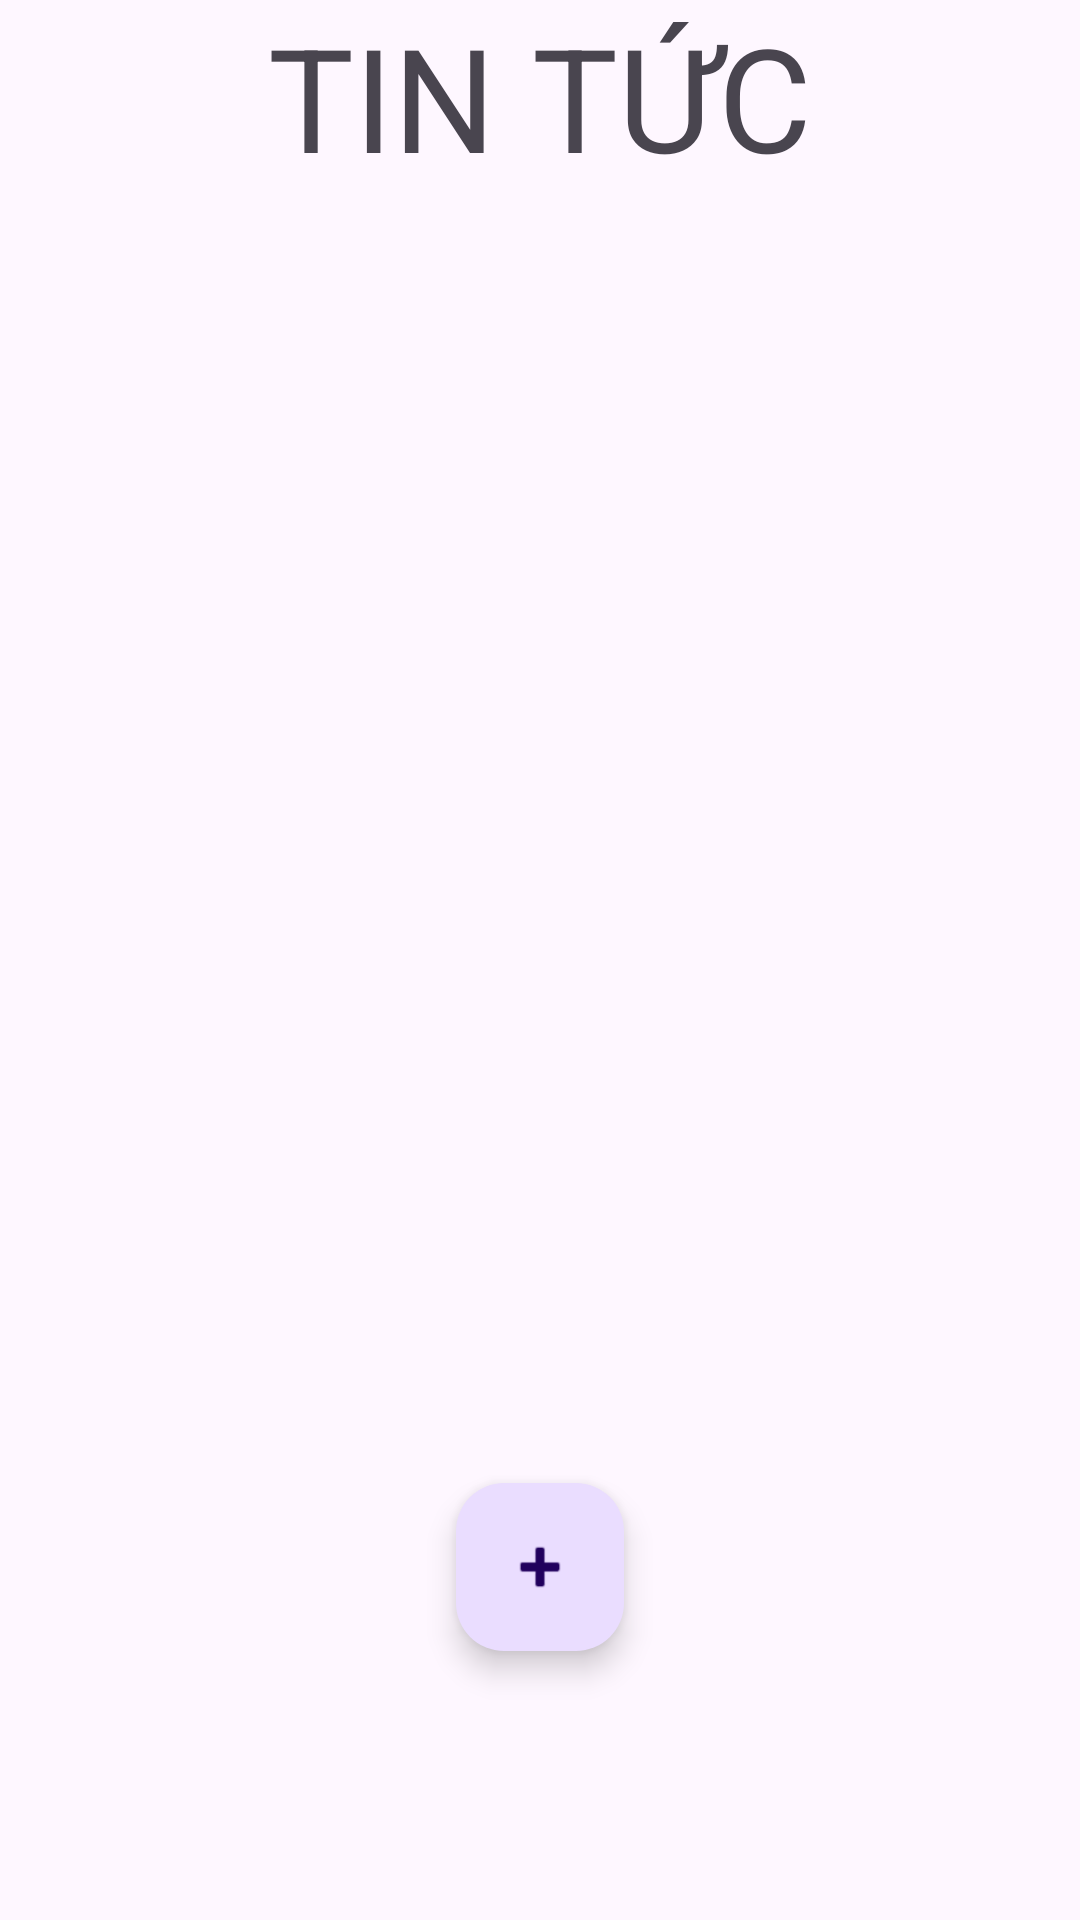

Icons on this 1080px×1920px Android screen, each with its box as (x1, y1, x2, y2):
add: (456, 1483, 624, 1651)
